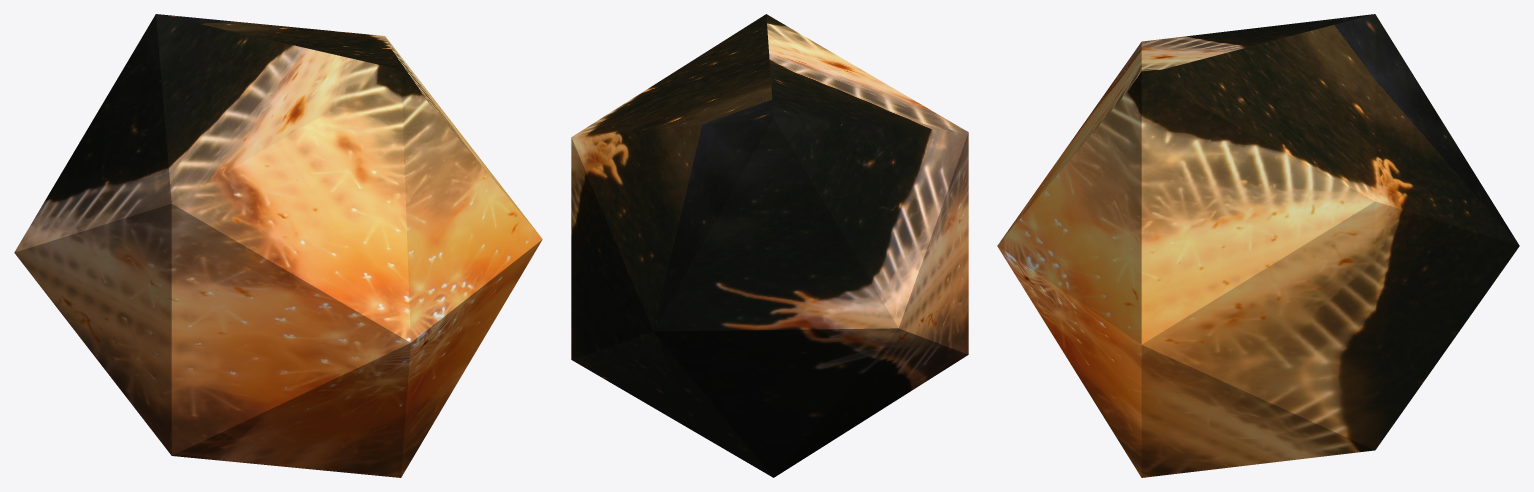
The model's file is idk.glb.
The picture shows the model from 3 angles, left to right: view 1: azimuth 30°, elevation 25°; view 2: azimuth 150°, elevation 25°; view 3: azimuth 270°, elevation 25°; orthographic projection. The views are drawn at different scales.
Size of the model in its own units: 1.79 by 1.7 by 2.
1 material, 1 textured.
